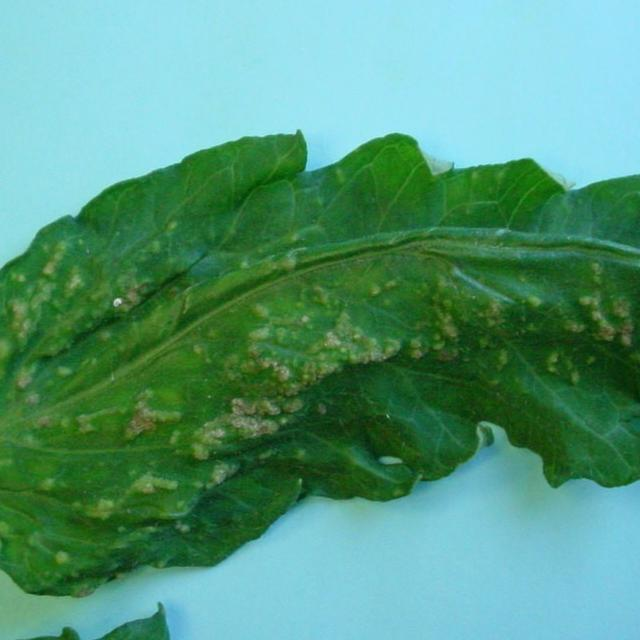Tomato mold leaf: (0, 79, 640, 615)
